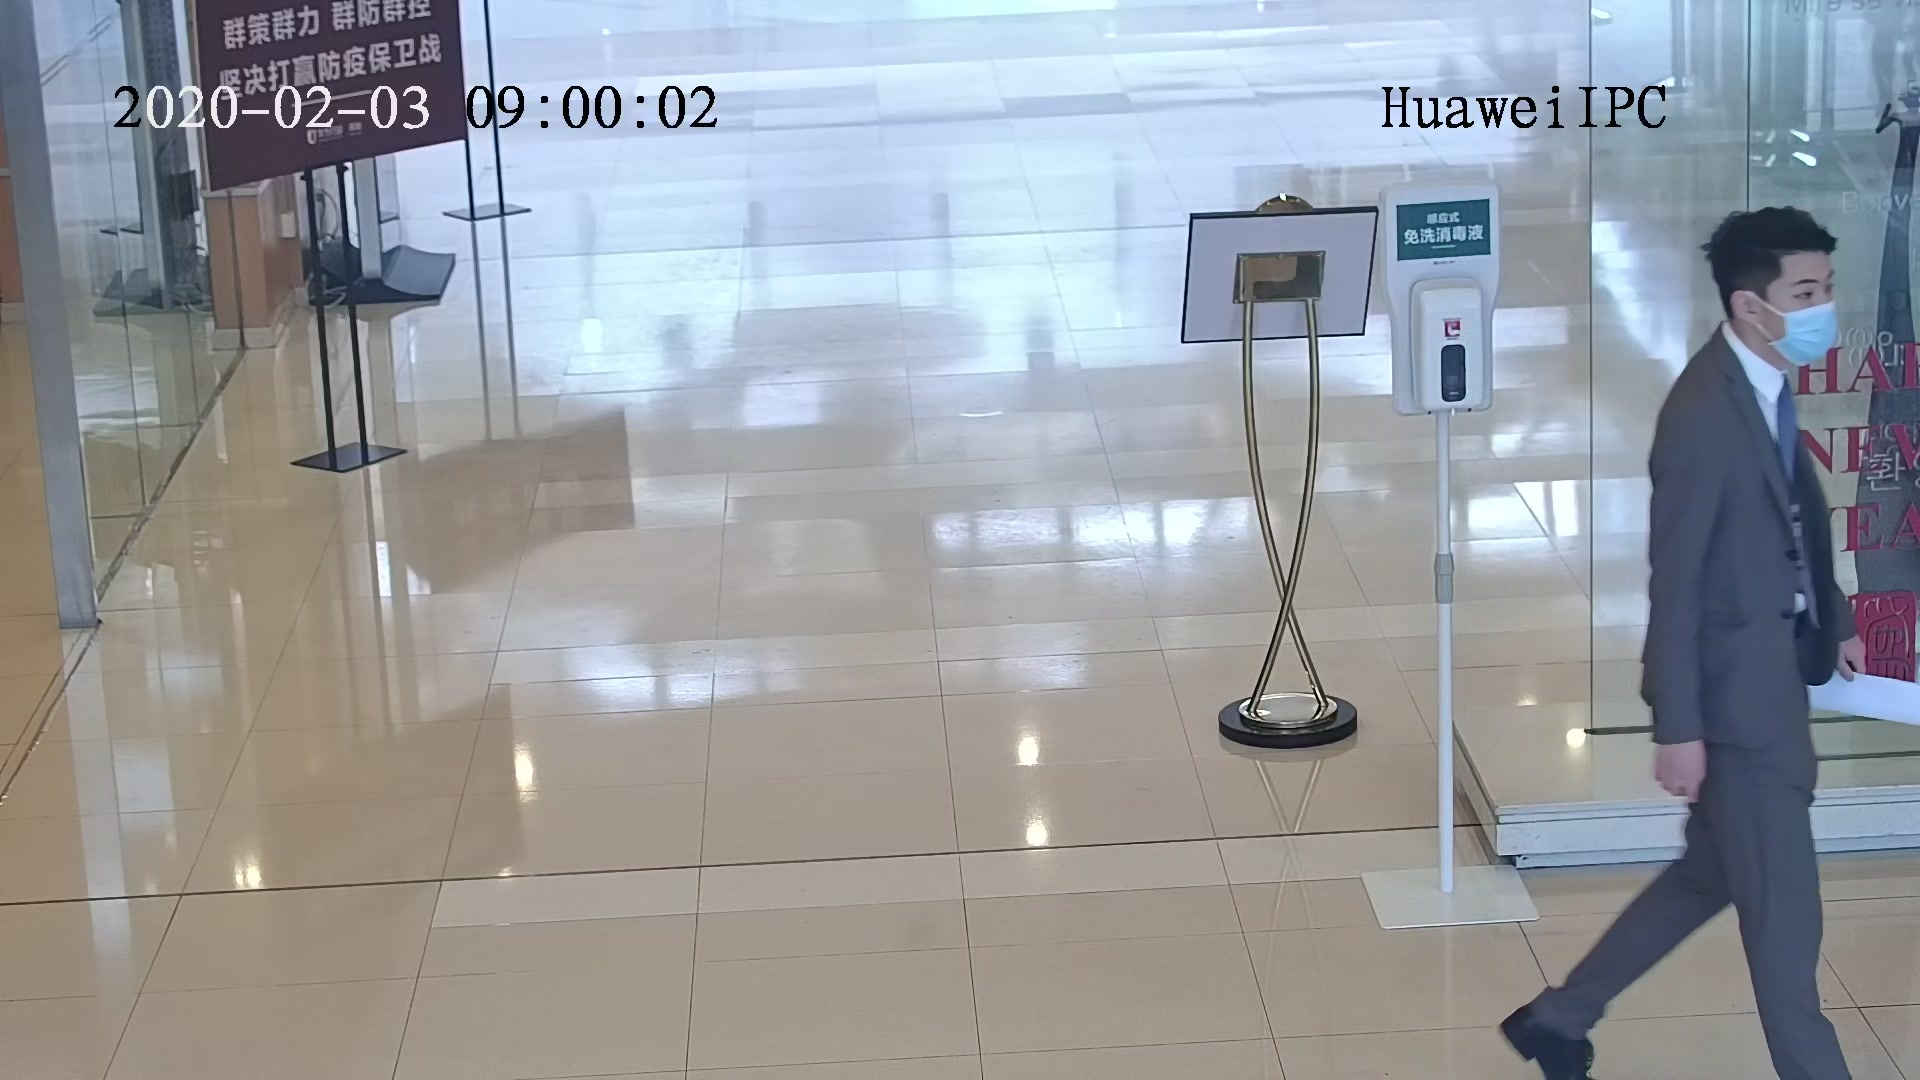face: (1757, 256, 1839, 364)
mask: (1763, 298, 1841, 366)
person: (1655, 203, 1835, 445)
